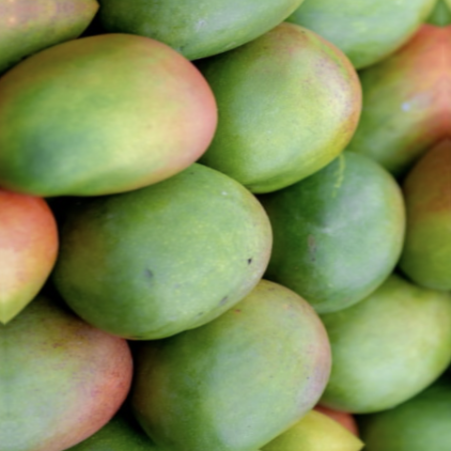mango: (52, 143, 283, 356), (0, 14, 226, 218), (108, 274, 354, 451), (260, 138, 435, 325)
